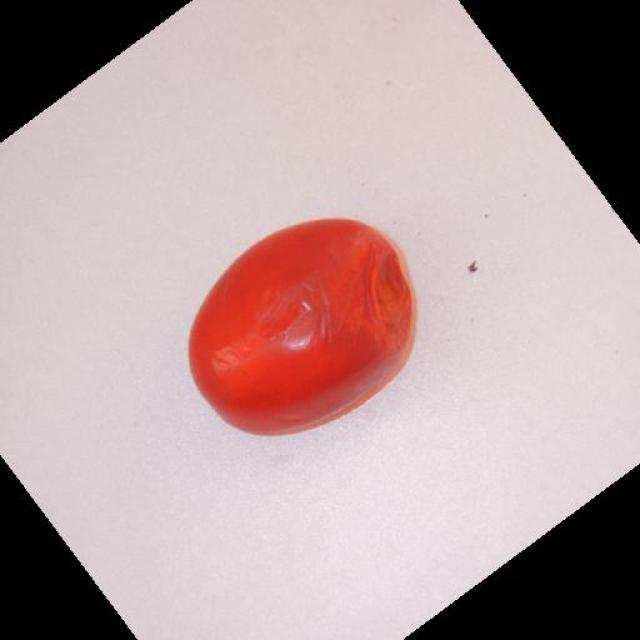Stale_tomato: (184, 252, 428, 422)
